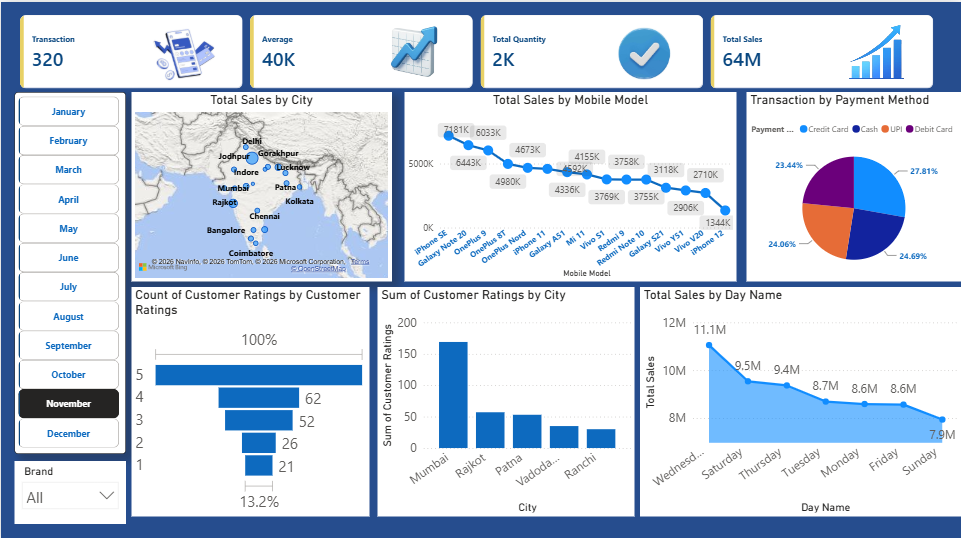

Layout of this report page (visuals, bound fields, positions):
{"tool":"powerbi","page":{"name":"Page 3","canvas":[1280,720],"ordinal":2},"visuals":[{"type":"group","id":"g1","title":"Group 1","box":[17.1,18.1,148.8,93.8],"z":0},{"type":"shape","box":[17.1,18.1,148.3,96.9],"z":0,"group":"g1"},{"type":"image","box":[24,19.8,133.7,92.5],"z":1000,"group":"g1"},{"type":"shape","box":[17,119.7,148.8,482.5],"z":1000},{"type":"advancedSlicerVisual","fields":{"Values":["mobile sales data.Date.Variation.Date Hierarchy.Month"]},"box":[22,113.4,152.5,485],"z":2000},{"type":"cardVisual","fields":{"Data":["mobile sales data.Transaction","mobile sales data.Average","mobile sales data.Total Quantity","mobile sales data.Total Sales"]},"box":[148.6,0,1131.4,131.4],"z":3000},{"type":"map","fields":{"Category":["mobile sales data.City"],"Size":["mobile sales data.Total Sales"]},"box":[174.3,120,347.1,252.9],"z":4000},{"type":"lineChart","fields":{"Category":["mobile sales data.Mobile Model"],"Y":["mobile sales data.Total Sales"]},"box":[538.6,120,442.9,252.9],"z":5000},{"type":"clusteredColumnChart","fields":{"Y":["Sum(mobile sales data.Customer Ratings)"],"Category":["mobile sales data.City"]},"box":[502.9,380,342.9,305.7],"z":6000},{"type":"pieChart","fields":{"Category":["mobile sales data.Payment Method"],"Y":["mobile sales data.Transaction"]},"box":[994.3,120,285.7,252.9],"z":7000},{"type":"funnel","fields":{"Category":["mobile sales data.Customer Ratings"],"Y":["CountNonNull(mobile sales data.Customer Ratings)"]},"box":[174.3,380,317.1,305.7],"z":8000},{"type":"areaChart","fields":{"Category":["mobile sales data.Day Name"],"Y":["mobile sales data.Total Sales"]},"box":[851.4,380,428.6,305.7],"z":9000},{"type":"slicer","fields":{"Values":["mobile sales data.Brand"]},"box":[17.1,612.9,148.6,84.3],"z":10000}]}

Visuals, with their boxes in screenshot pixels (x1, y1, x2, y2), scaled from the page's 1280x720 canvas onto the 961x538 screenshot:
"Group 1" group: {"x1": 13, "y1": 14, "x2": 125, "y2": 84}
shape: {"x1": 13, "y1": 14, "x2": 124, "y2": 86}
image: {"x1": 18, "y1": 15, "x2": 118, "y2": 84}
shape: {"x1": 13, "y1": 89, "x2": 124, "y2": 450}
advancedSlicerVisual - mobile sales data.Date.Variation.Date Hierarchy.Month: {"x1": 17, "y1": 85, "x2": 131, "y2": 447}
cardVisual - mobile sales data.Transaction x mobile sales data.Average: {"x1": 112, "y1": 0, "x2": 960, "y2": 98}
map - mobile sales data.City x mobile sales data.Total Sales: {"x1": 131, "y1": 90, "x2": 391, "y2": 279}
lineChart - mobile sales data.Mobile Model x mobile sales data.Total Sales: {"x1": 404, "y1": 90, "x2": 737, "y2": 279}
clusteredColumnChart - Sum(mobile sales data.Customer Ratings) x mobile sales data.City: {"x1": 378, "y1": 284, "x2": 635, "y2": 512}
pieChart - mobile sales data.Payment Method x mobile sales data.Transaction: {"x1": 747, "y1": 90, "x2": 960, "y2": 279}
funnel - mobile sales data.Customer Ratings x CountNonNull(mobile sales data.Customer Ratings): {"x1": 131, "y1": 284, "x2": 369, "y2": 512}
areaChart - mobile sales data.Day Name x mobile sales data.Total Sales: {"x1": 639, "y1": 284, "x2": 960, "y2": 512}
slicer - mobile sales data.Brand: {"x1": 13, "y1": 458, "x2": 124, "y2": 521}
